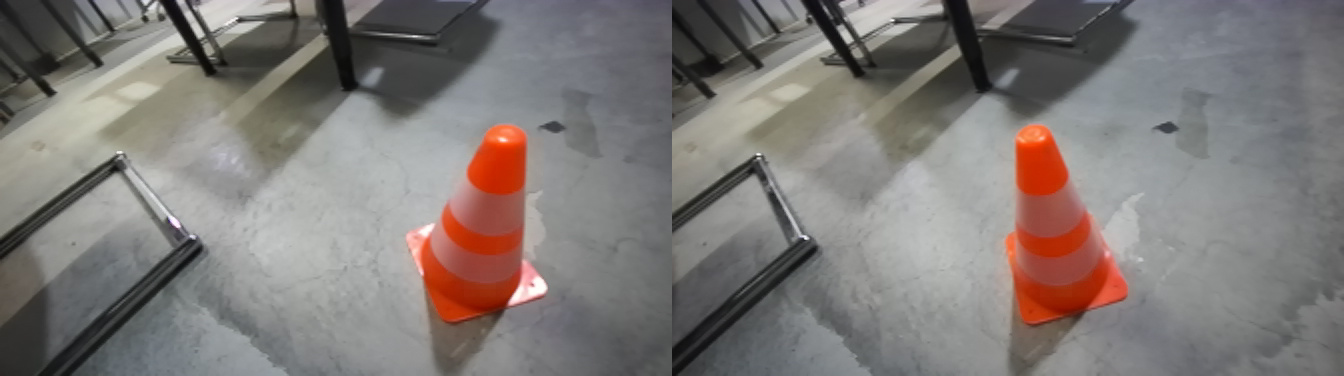cone: (408, 126, 555, 326), (1007, 128, 1135, 332)
